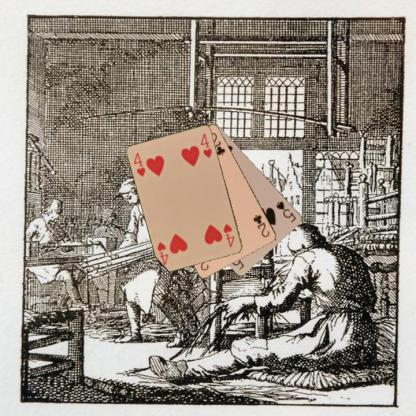2c: (251, 212, 271, 239)
4h: (131, 150, 147, 178), (221, 221, 236, 249)
5s: (274, 198, 297, 223)
